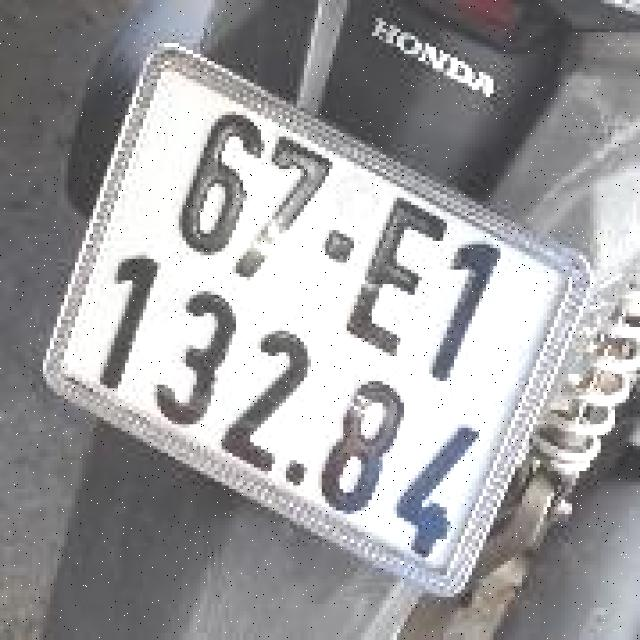1: (411, 223, 524, 403), (74, 243, 183, 404)
2: (208, 311, 340, 482)
3: (140, 273, 256, 440)
4: (378, 406, 508, 566)
6: (168, 99, 283, 268)
7: (218, 126, 354, 297)
8: (304, 361, 422, 529)
E: (335, 185, 460, 365)
